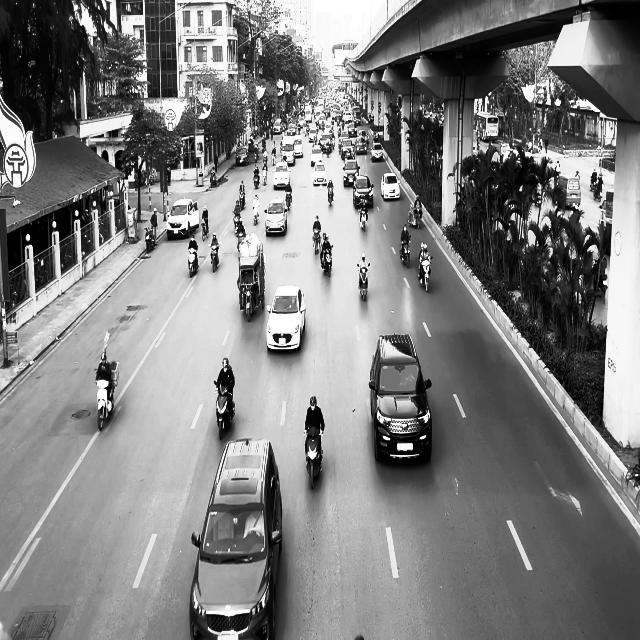bus: (476, 112, 500, 142)
car: (189, 438, 283, 640), (369, 332, 432, 463), (266, 284, 305, 352), (166, 198, 199, 240), (264, 197, 288, 236), (352, 174, 374, 208), (381, 172, 400, 200), (273, 162, 290, 190), (312, 162, 328, 185), (235, 146, 249, 166)
motorbike: (213, 380, 235, 440), (304, 428, 323, 490), (95, 378, 115, 430), (418, 256, 432, 292), (357, 262, 370, 300), (320, 244, 332, 277), (399, 237, 411, 267), (209, 242, 220, 272), (188, 246, 198, 278), (144, 226, 155, 252), (358, 206, 368, 231), (233, 212, 242, 236), (312, 230, 320, 254), (201, 219, 209, 241), (252, 204, 260, 224), (285, 190, 292, 210), (327, 187, 334, 205), (210, 170, 217, 187), (262, 166, 267, 185)
